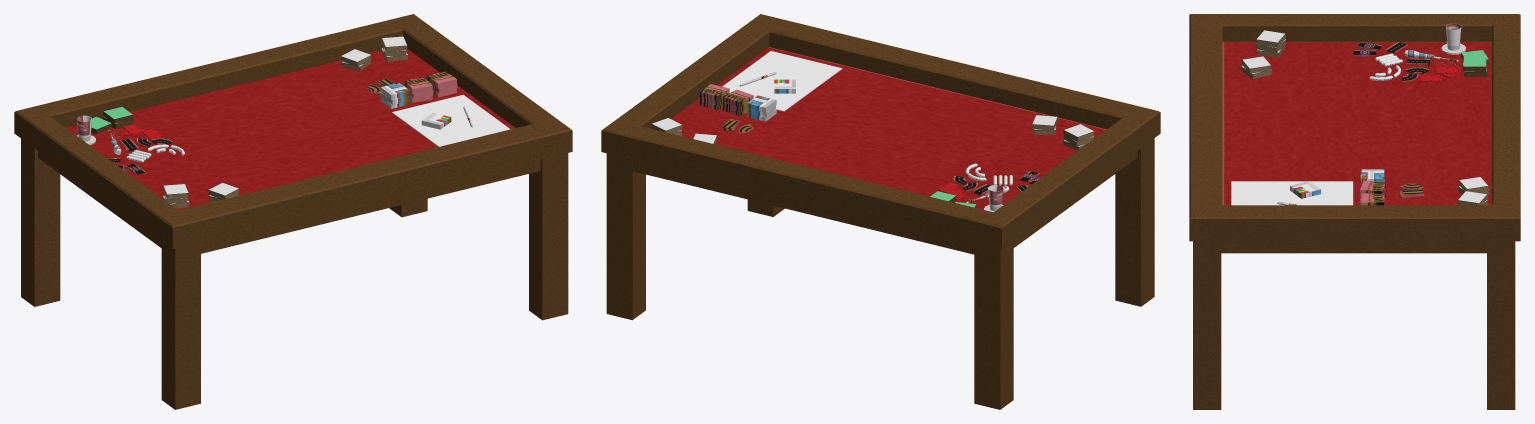
The model's file is Tabletop FBX.fbx.
The picture shows the model from 3 angles, left to right: view 1: azimuth 30°, elevation 25°; view 2: azimuth 150°, elevation 25°; view 3: azimuth 270°, elevation 25°; orthographic projection. The views are drawn at different scales.
Visible parts, largest first — view 1: Table top (modelled), Snow block stack, Grass terrain stack; view 2: Table top (modelled), Snow block stack; view 3: Table top (modelled), Snow block stack, Grass terrain stack, Track - Straight piece004, Inflatable - Straight piece002, Locked peices, Track - Spike trap piece001.
Part boxes in pixels (x1=…): Table top (modelled): x1=14, y1=14, x2=572, y2=409; Snow block stack: x1=162, y1=36, x2=407, y2=208; Grass terrain stack: x1=91, y1=107, x2=133, y2=134; Table top (modelled): x1=601, y1=14, x2=1160, y2=409; Snow block stack: x1=651, y1=115, x2=1094, y2=150; Table top (modelled): x1=1189, y1=14, x2=1520, y2=409; Snow block stack: x1=1241, y1=30, x2=1489, y2=205; Grass terrain stack: x1=1461, y1=50, x2=1488, y2=77; Track - Straight piece004: x1=1385, y1=42, x2=1430, y2=82; Inflatable - Straight piece002: x1=1369, y1=53, x2=1402, y2=80; Locked peices: x1=1419, y1=66, x2=1460, y2=82; Track - Spike trap piece001: x1=1353, y1=42, x2=1382, y2=56.
Size of the model in its own units: 2129 by 974 by 1460.
